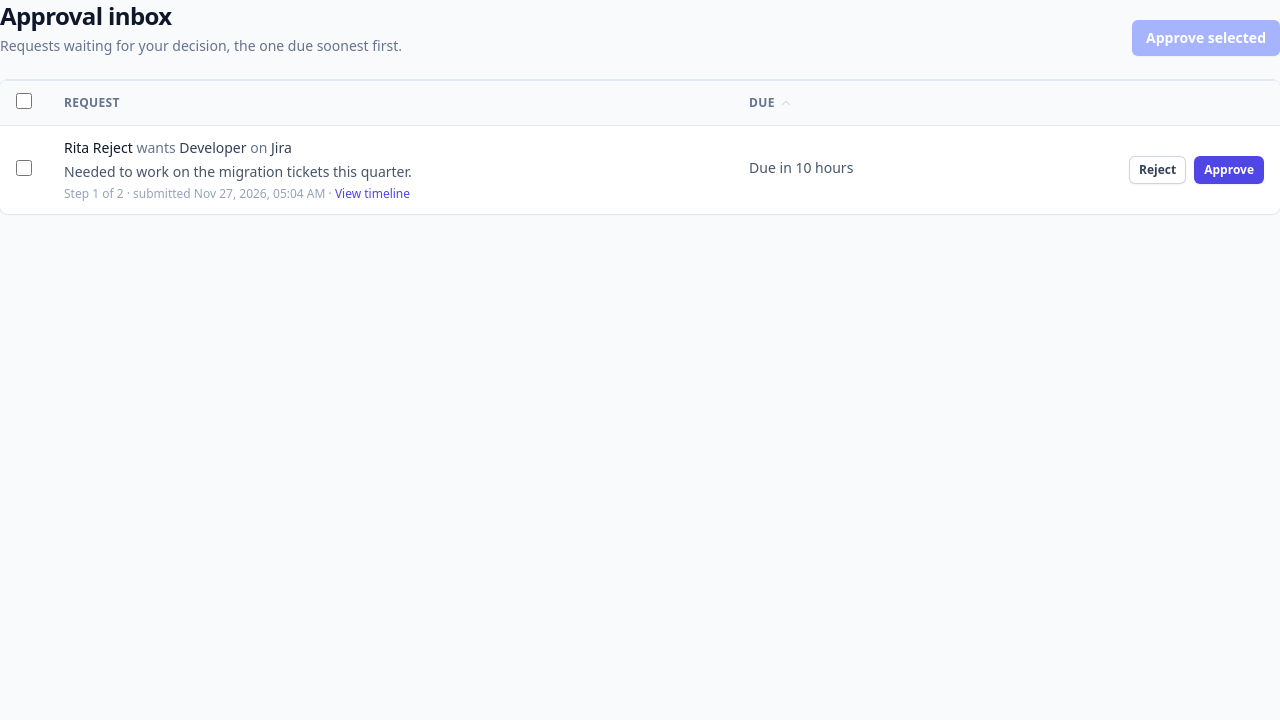
Approval inbox › rejecting requires a comment
Click the button with aria-label "Reject request from Rita Reject".
click(1158, 170)  # box [1129,156,1186,184]
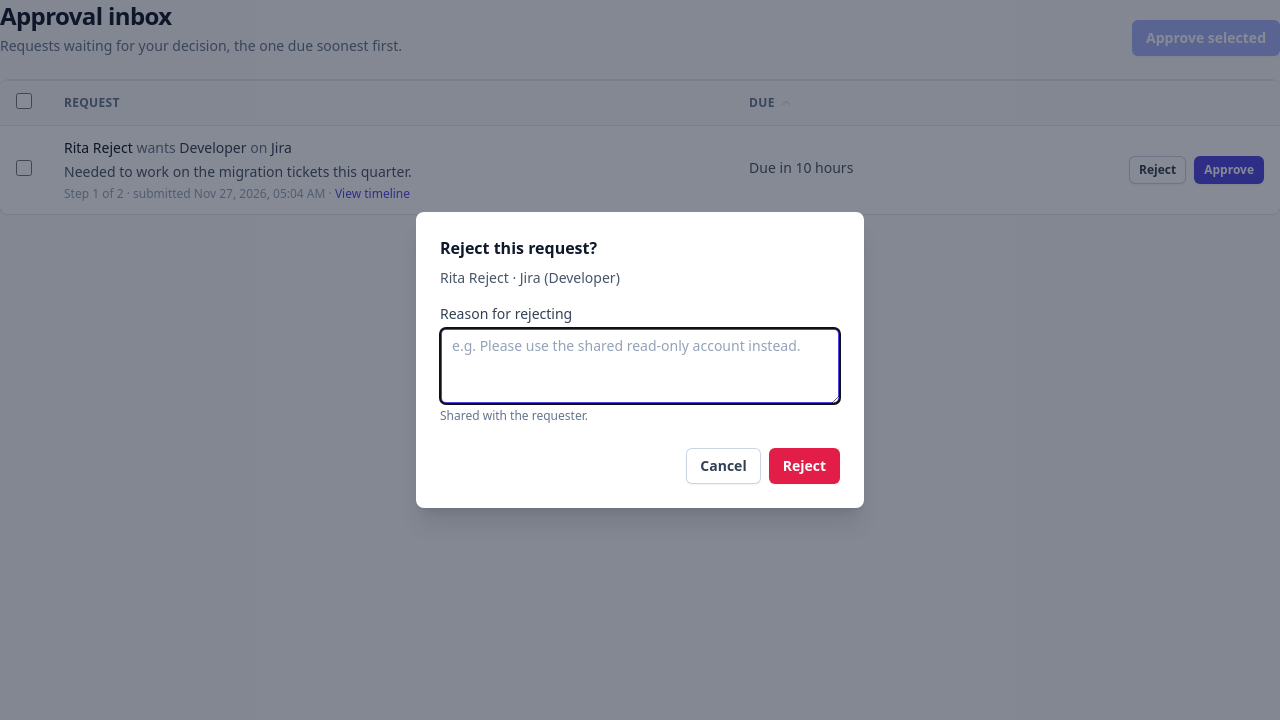
Click the button "Reject".
click(804, 466)  # box [769,448,840,484]
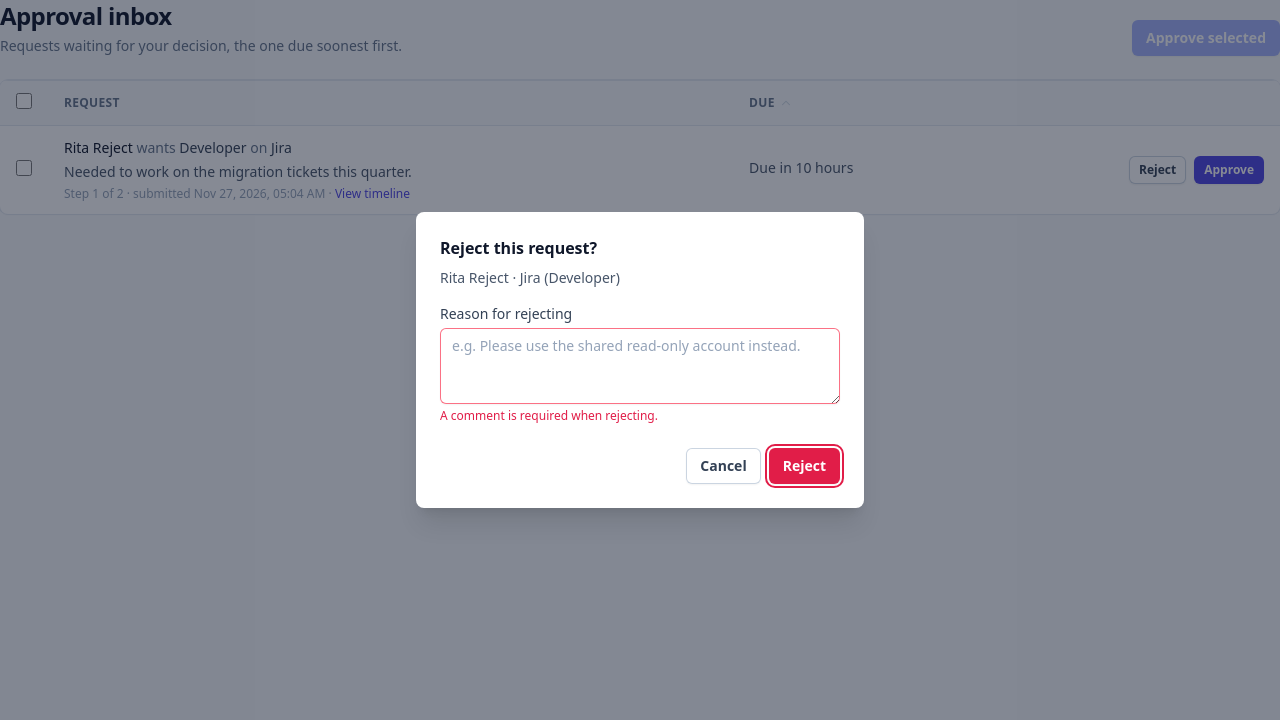
Expected: the text "Rita Reject" is shown, [64,138,133,157]
Expected: the text "A comment is required when rejecting." is shown, [440,407,658,424]
Type "  Use the read-only role  " into the text box labelled "Reason for rejecting".
click(640, 366); type("  Use the read-only role  ")  # box [440,328,840,404]
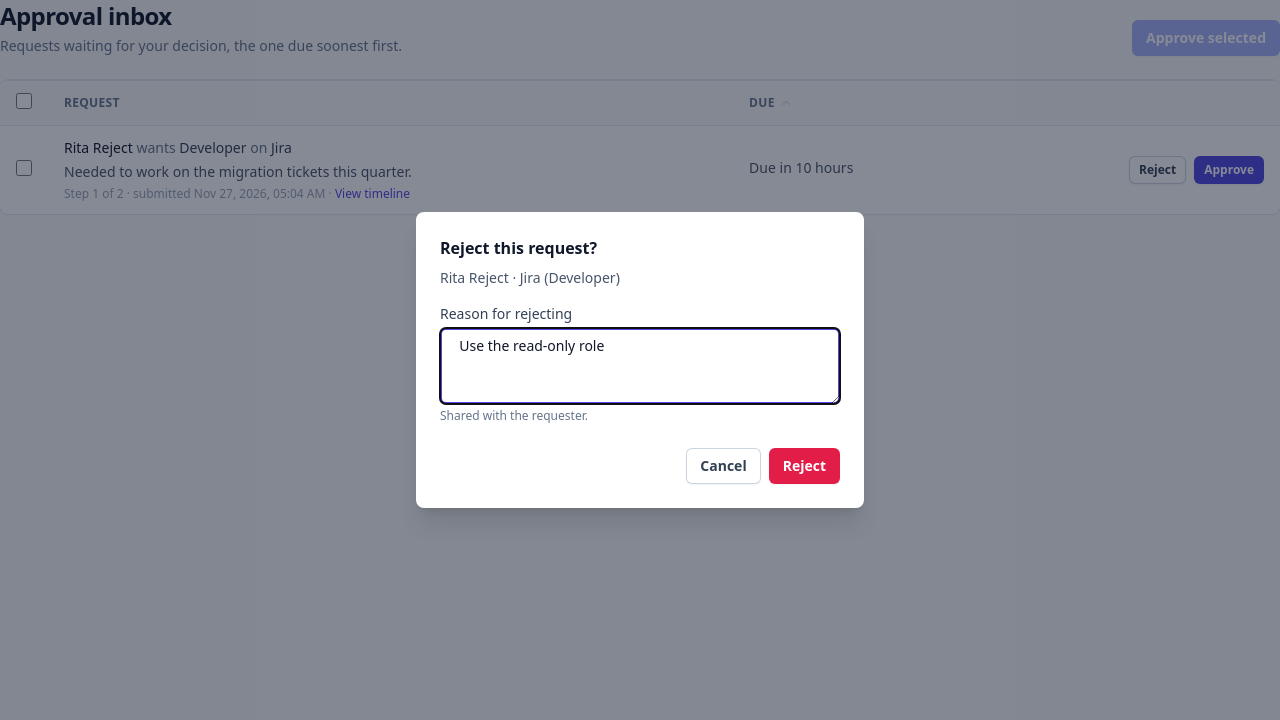
Click the button "Reject".
click(804, 466)  # box [769,448,840,484]
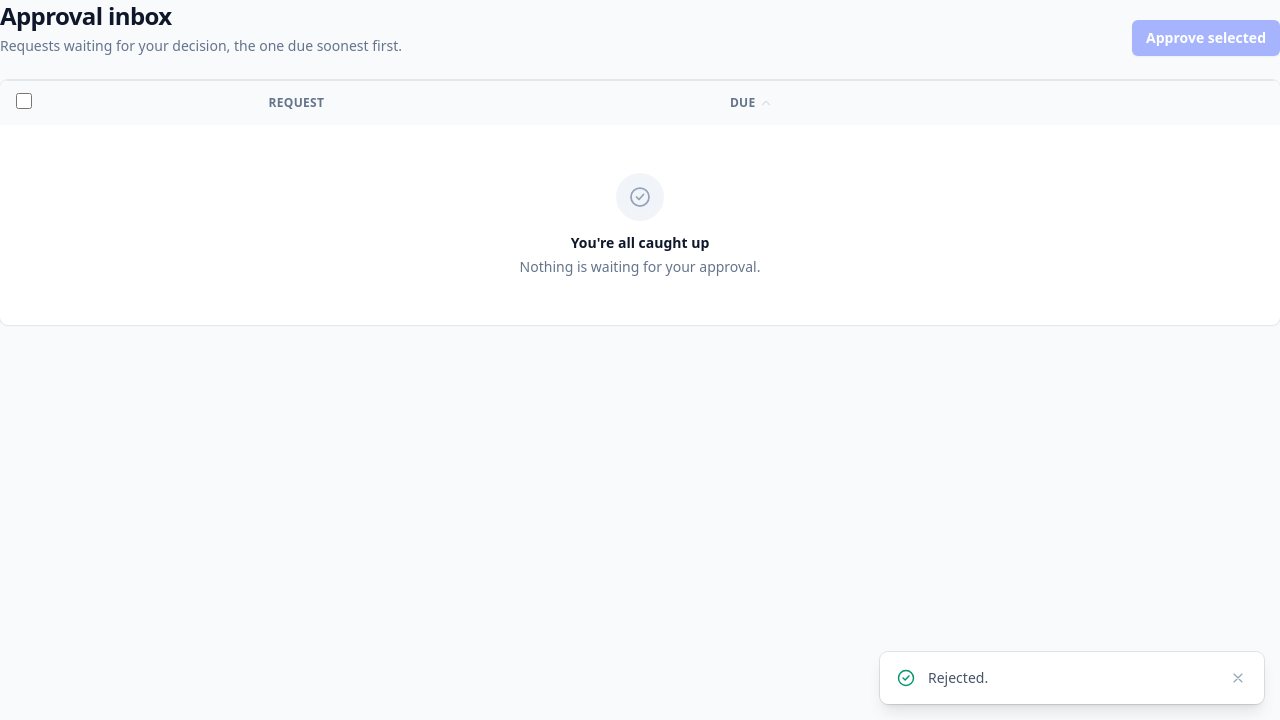
Expected: the text "Rita Reject" is gone
Expected: the text "Rejected." is shown, [928,668,988,687]
